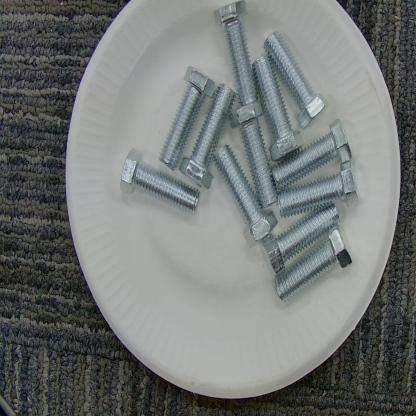FOD: (121, 0, 364, 310)
